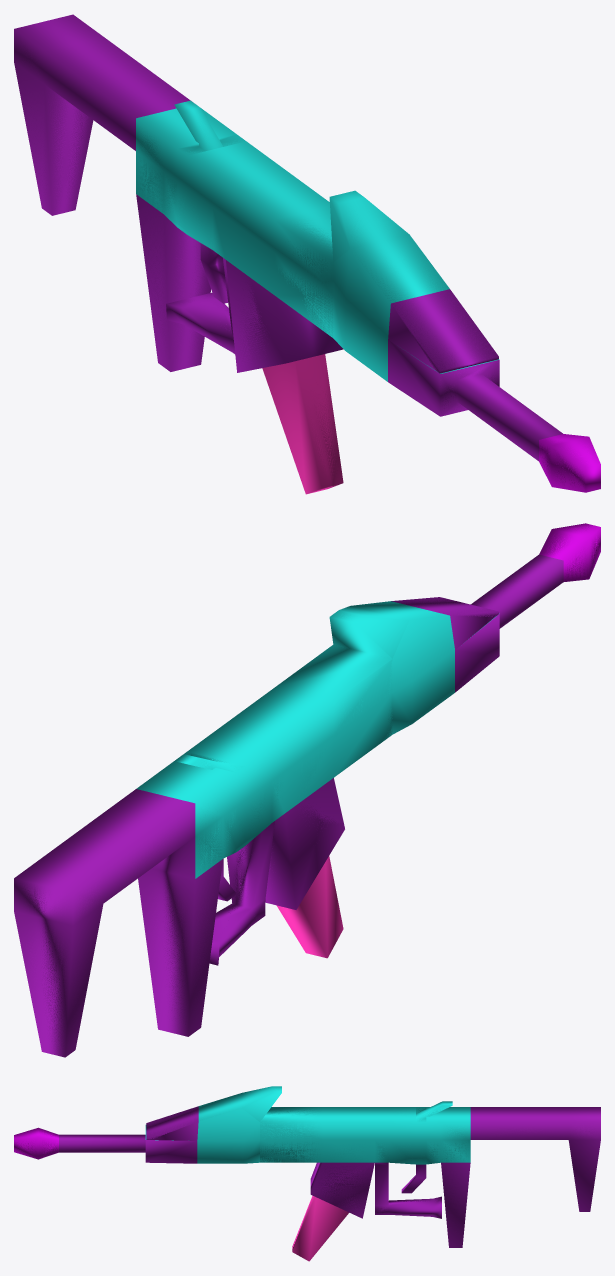
Rendered from LaserAuto.fbx.
3 views of the same model, one above another, from view 1: azimuth 30°, elevation 25°; view 2: azimuth 150°, elevation 25°; view 3: azimuth 270°, elevation 25° (orthographic). The views are drawn at different scales.
Visible parts, largest first — view 1: Cube; view 2: Cube; view 3: Cube.
Boxes of the visible parts, bbox=[...] form: Cube: bbox=[14, 14, 600, 494]; Cube: bbox=[14, 523, 600, 1057]; Cube: bbox=[14, 1086, 600, 1261].
Bounding box in the file's own units: 62.12 × 281 × 883.
